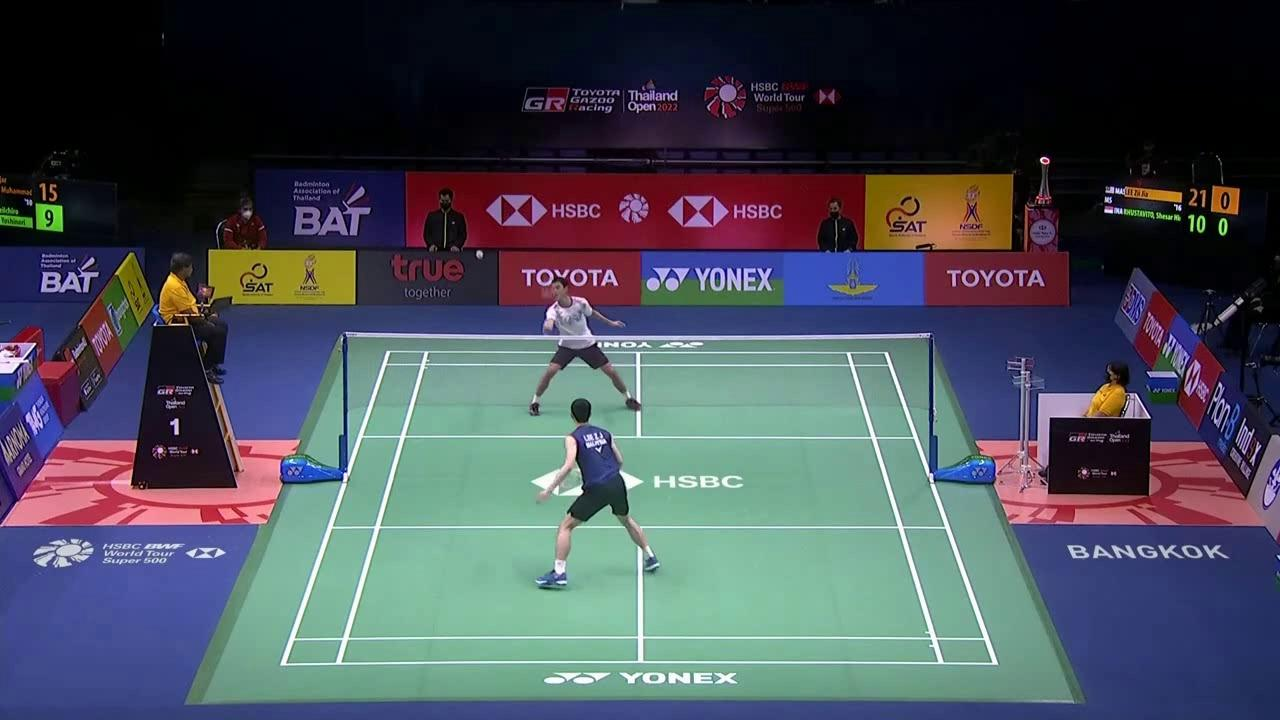racket: (558, 468, 603, 488), (541, 280, 557, 327)
shuttle: (476, 250, 484, 259)
